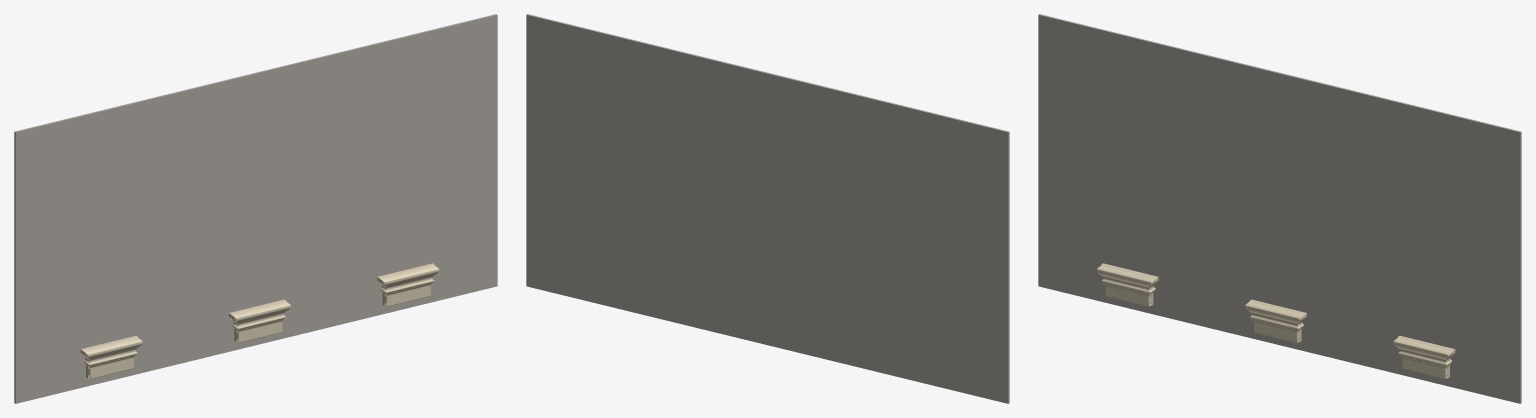
File: terilgan.glb
3 renders of one model, left to right at view 1: azimuth 30°, elevation 25°; view 2: azimuth 150°, elevation 25°; view 3: azimuth 330°, elevation 25°, orthographic.
Parts seen in each view (by area): view 1: Devor, t2, t1, t0; view 2: Devor; view 3: Devor, t0, t1, t2.
Part boxes in pixels (<box>): Devor: <box>14,14,497,403</box>; t2: <box>377,263,439,306</box>; t1: <box>229,299,290,342</box>; t0: <box>80,336,142,379</box>; Devor: <box>526,14,1009,403</box>; Devor: <box>1038,14,1521,403</box>; t0: <box>1096,263,1158,306</box>; t1: <box>1245,299,1306,342</box>; t2: <box>1393,336,1455,379</box>.
Bounding box in the file's own units: 2.6 × 1.4 × 0.0769.
